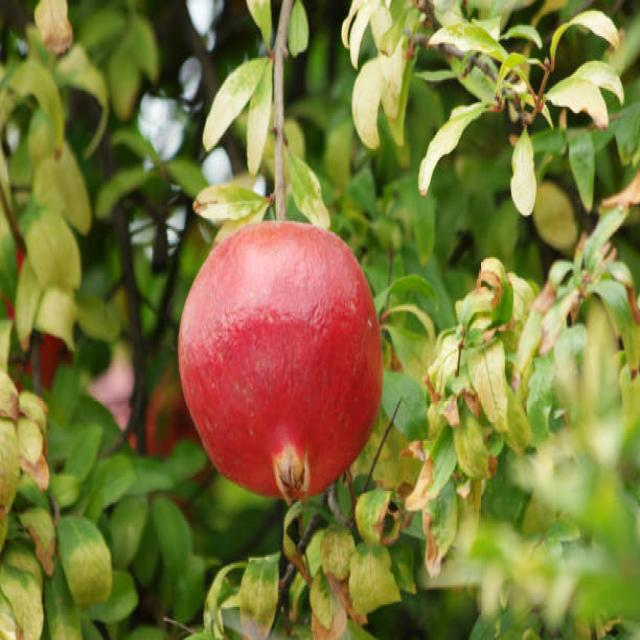Ripe: (176, 215, 390, 512)
